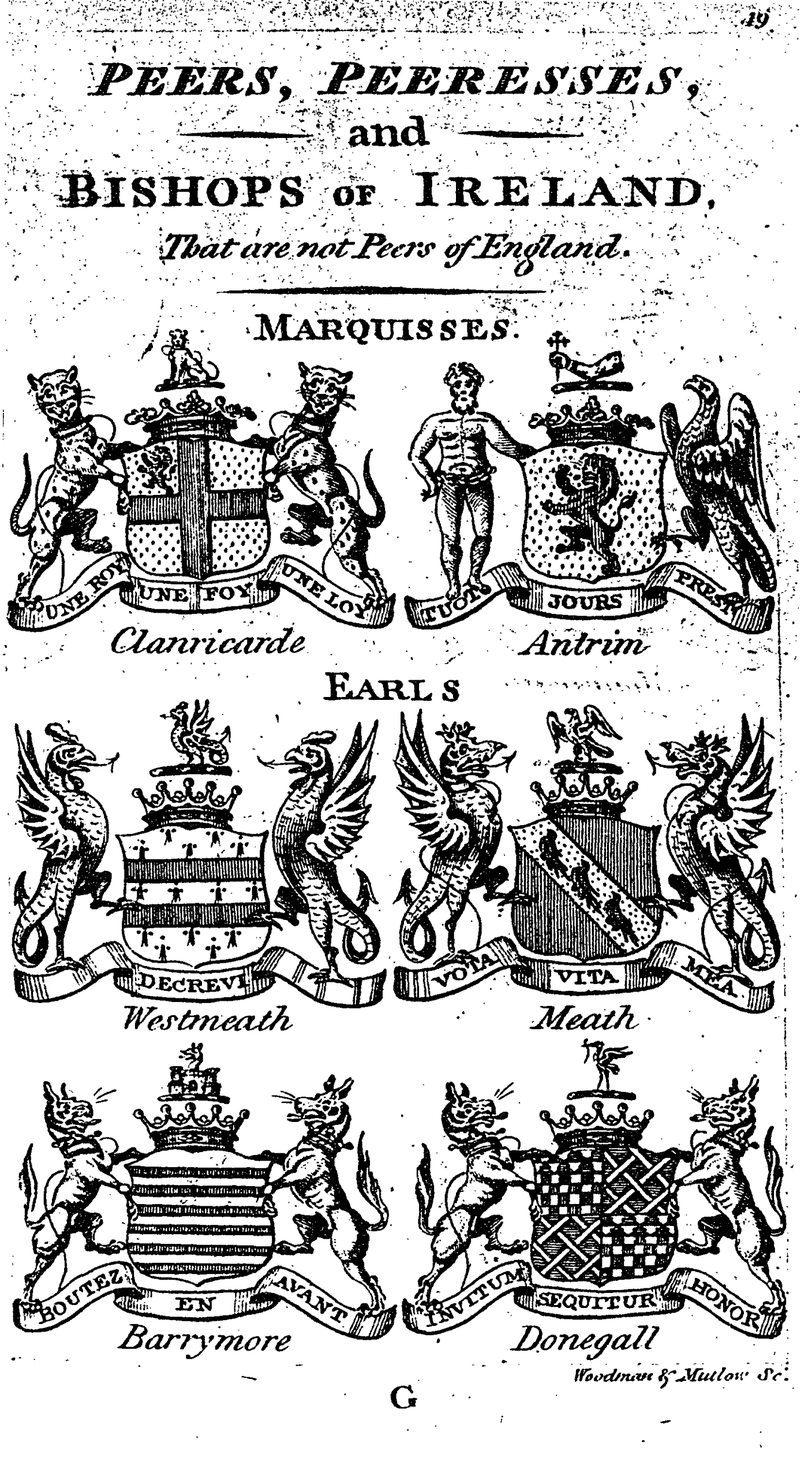coat_of_arms: (9, 697, 392, 1036), (396, 699, 777, 1038), (8, 1041, 403, 1360), (405, 1036, 787, 1364), (397, 329, 770, 664), (27, 334, 401, 655)
